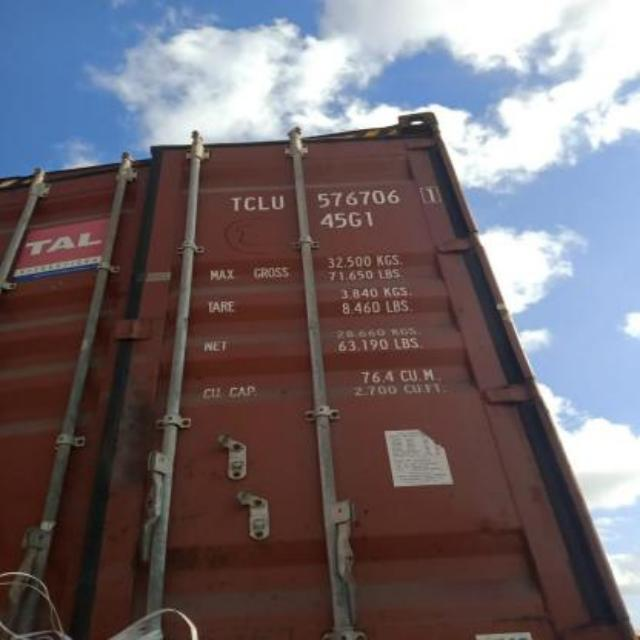0: (372, 184, 386, 210)
1: (416, 182, 440, 208)
5: (314, 185, 330, 211)
6: (383, 184, 403, 210), (344, 184, 356, 212)
7: (358, 186, 372, 208), (328, 190, 342, 210)
C: (242, 190, 258, 214)
L: (254, 190, 270, 213)
T: (225, 192, 241, 215)
U: (270, 192, 286, 216)
